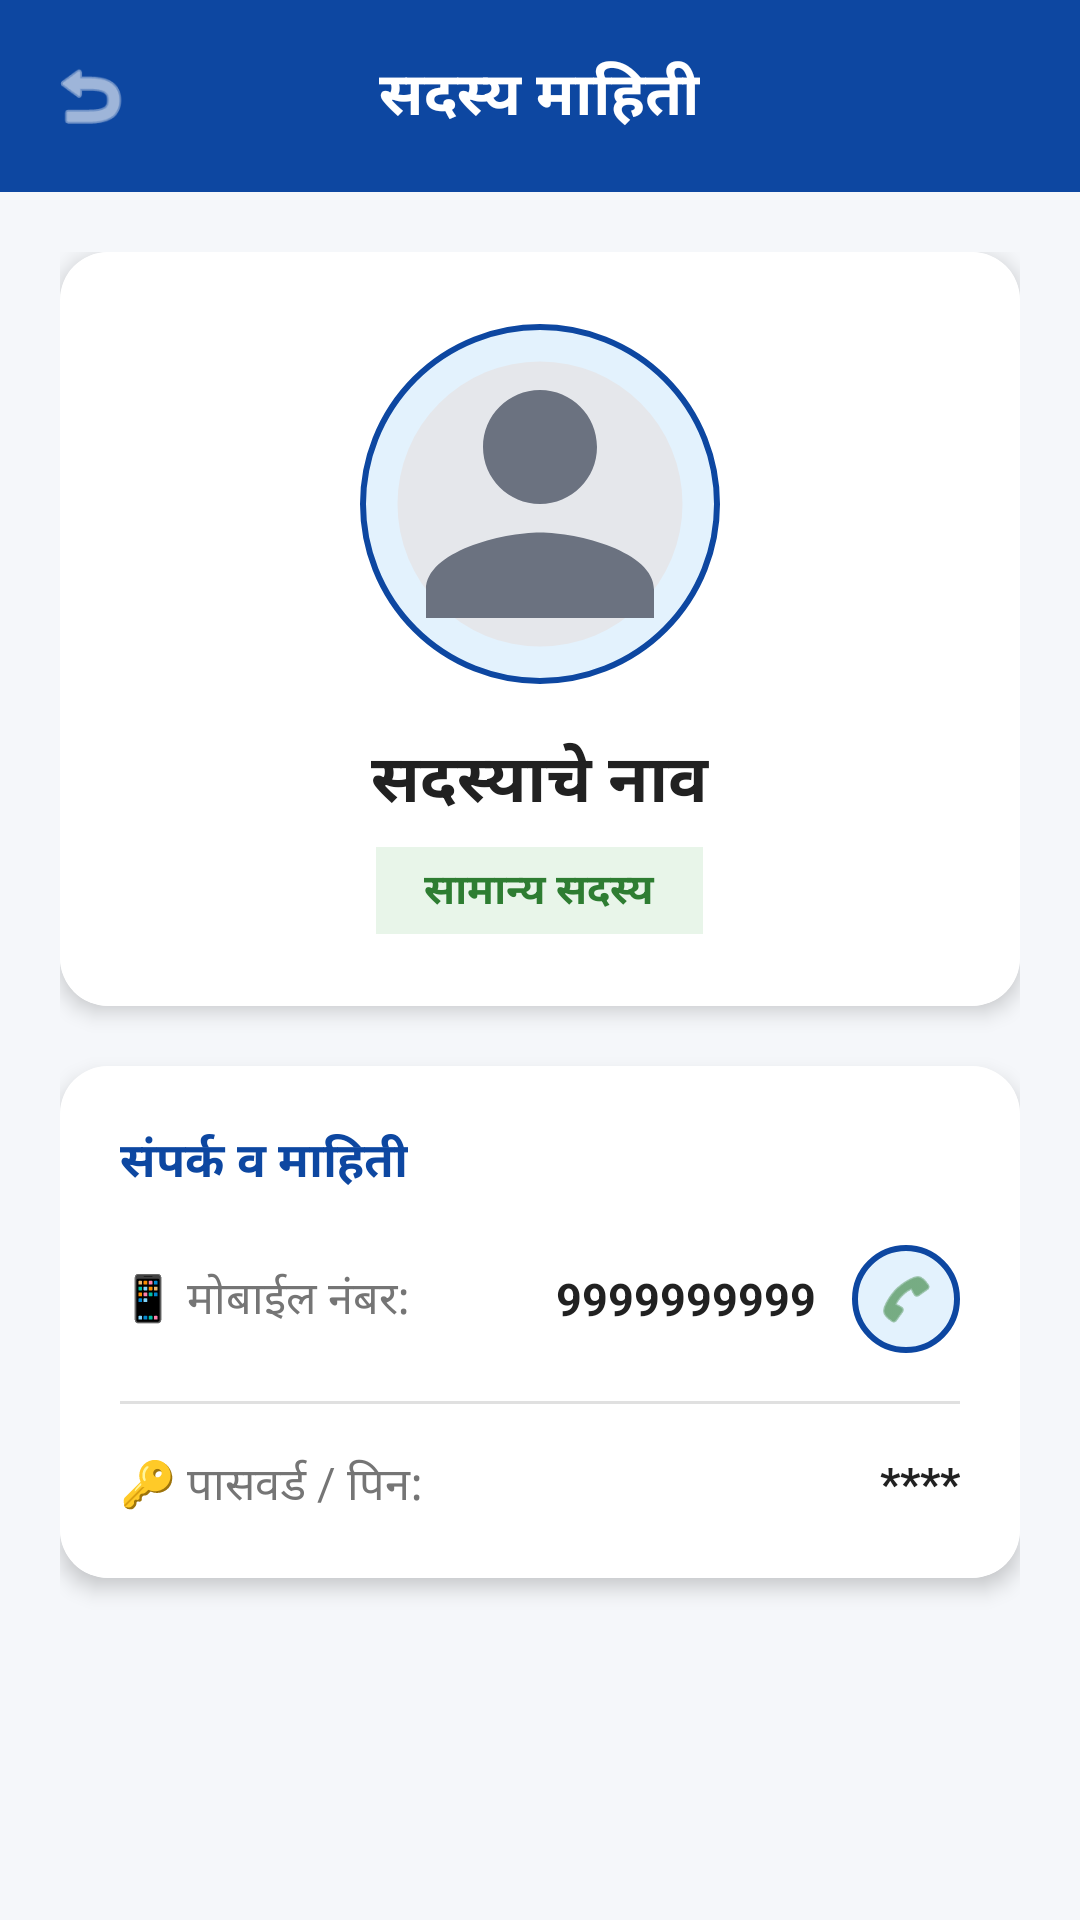

Icons on this 1080w x 1920h Android screen, each with its box as (x1, y1, x2, y2):
call: (852, 1245, 960, 1353)
revert: (61, 69, 122, 124)
